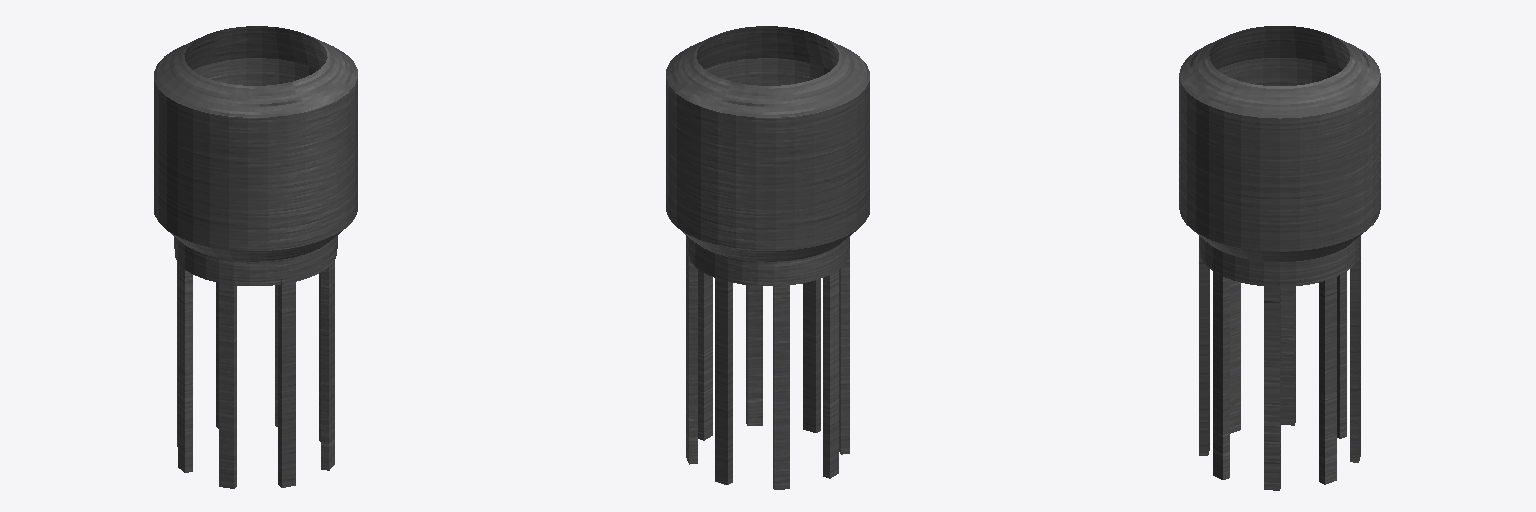
3 renders of one model, left to right at view 1: azimuth 30°, elevation 25°; view 2: azimuth 150°, elevation 25°; view 3: azimuth 270°, elevation 25°, orthographic.
Bounding box in the file's own units: 9.8 × 21 × 9.6.
1 materials, 1 textured.